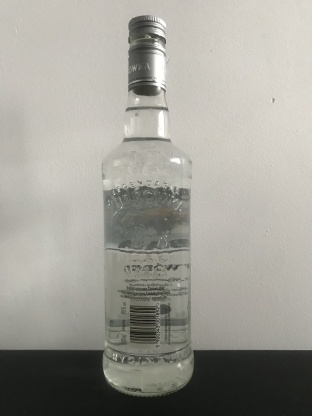nakretka: (126, 13, 167, 95)
